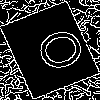O: (25, 25, 88, 79)
